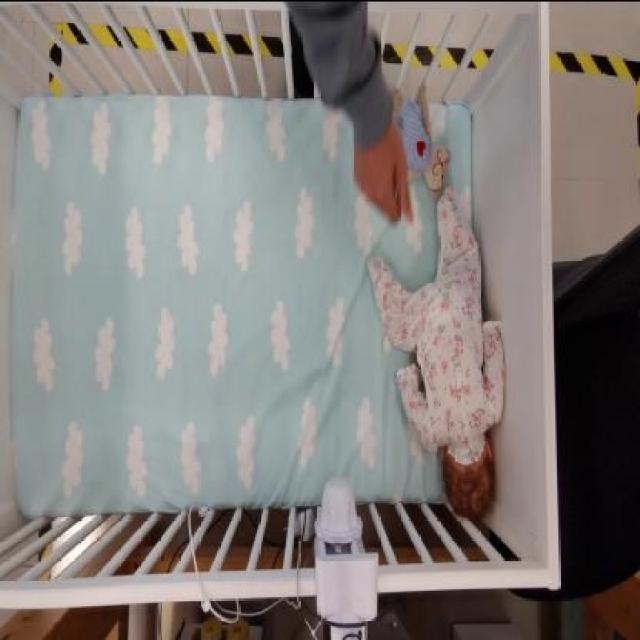baby: (362, 182, 510, 520)
